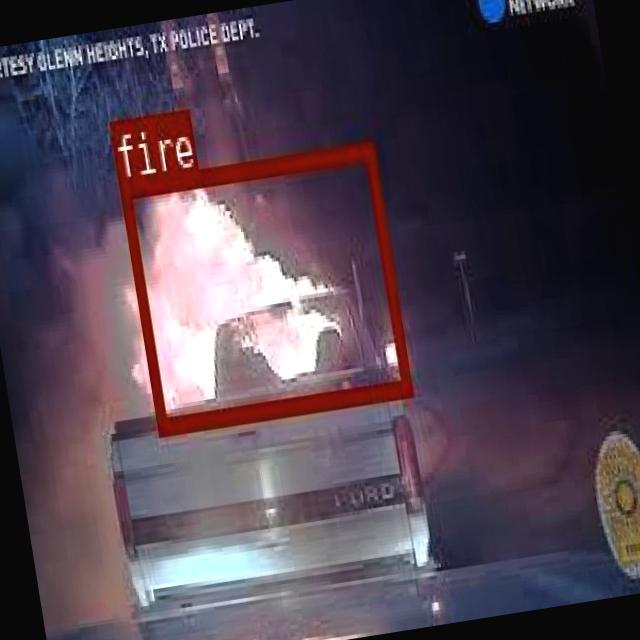fire: (118, 140, 410, 432)
